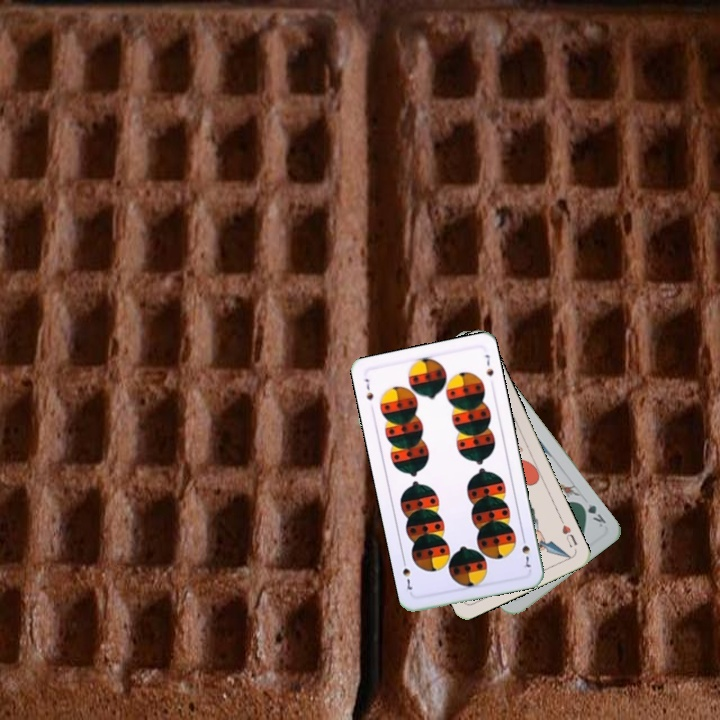GK: (575, 498, 609, 530)
HU: (556, 514, 580, 550)
S7: (518, 532, 533, 570), (361, 374, 376, 403)
